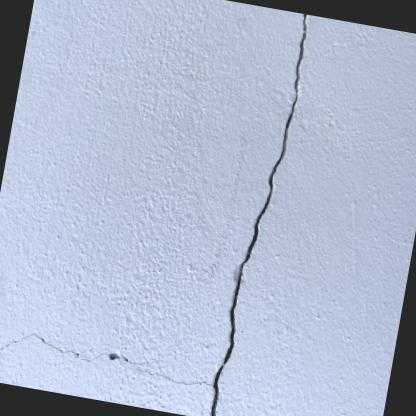crack: (209, 14, 309, 416)
